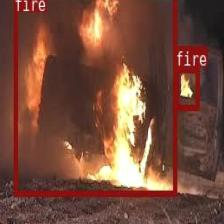fire: (14, 0, 176, 196), (174, 66, 199, 109)
